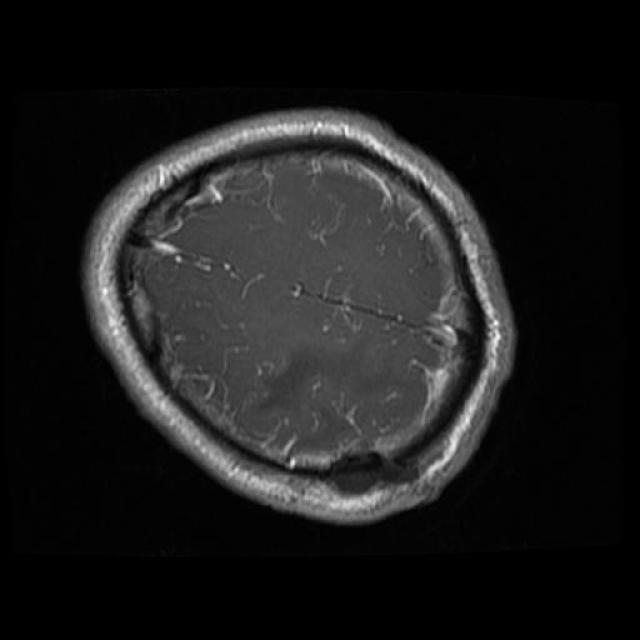Glioma: (295, 453, 415, 494)
